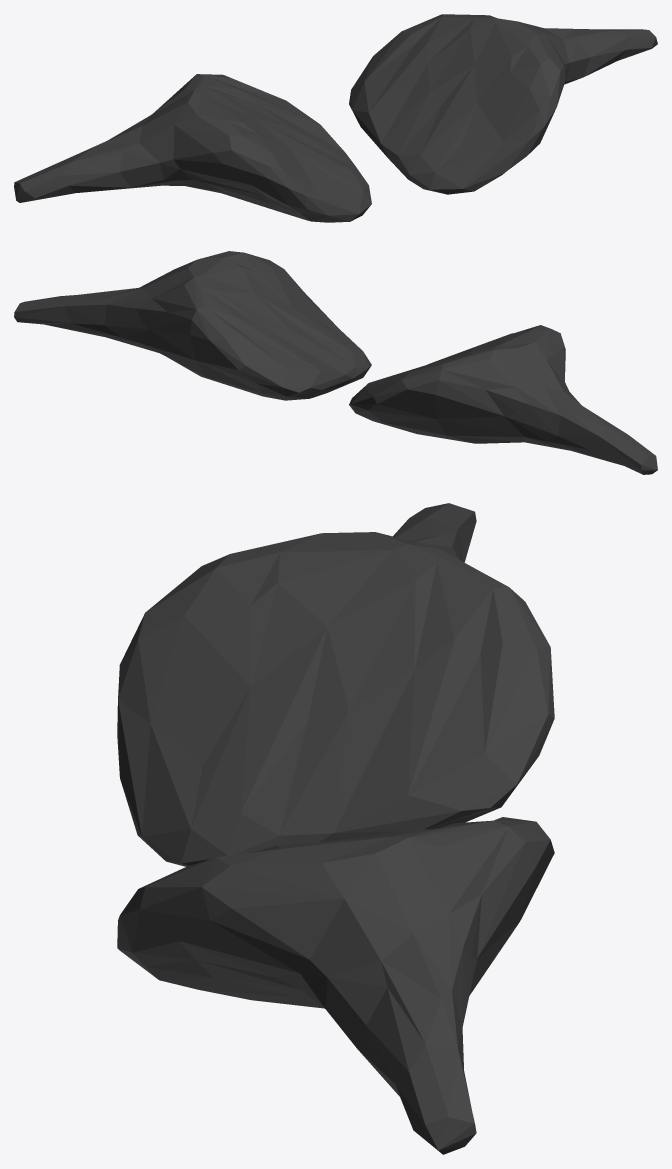
File: m_obturator_external.glb
3 views of the same model, one above another, from view 1: azimuth 30°, elevation 25°; view 2: azimuth 150°, elevation 25°; view 3: azimuth 270°, elevation 25° (orthographic). The views are drawn at different scales.
Visible parts, largest first — view 1: m_obturator_external; view 2: m_obturator_external; view 3: m_obturator_external.
Part boxes in pixels (box(x1,y1,x2,y2)): m_obturator_external: box(14, 14, 657, 222); m_obturator_external: box(14, 251, 657, 474); m_obturator_external: box(117, 503, 554, 1154).
Size of the model in its own units: 0.00625 by 0.00105 by 0.00185.
Materials: 1 (1 with a texture image).
